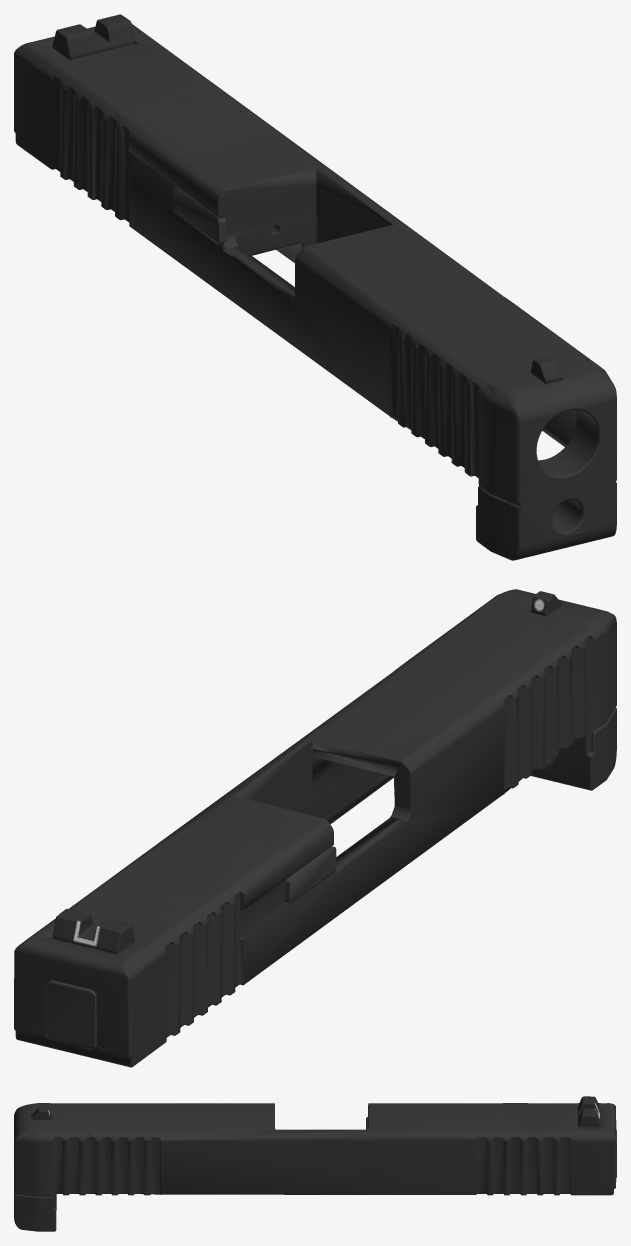
Rendered from SM_G17_Slide.fbx.
3 views of the same model, one above another, from view 1: azimuth 30°, elevation 25°; view 2: azimuth 150°, elevation 25°; view 3: azimuth 270°, elevation 25° (orthographic). The views are drawn at different scales.
Visible parts, largest first — view 1: SM_G17_Slide; view 2: SM_G17_Slide; view 3: SM_G17_Slide.
Boxes of the visible parts, x1,y1,x2,y2 form: SM_G17_Slide: (14,14,616,560); SM_G17_Slide: (14,589,616,1067); SM_G17_Slide: (14,1096,616,1231).
Bounding box in the file's own units: 2.56 × 18.8 × 3.76.
